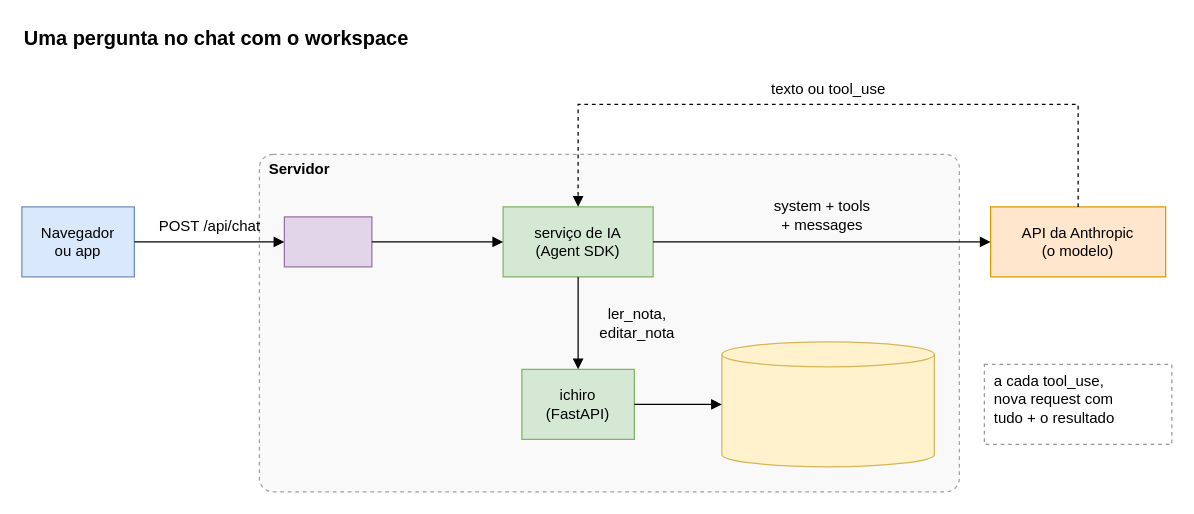
This 1194x514 diagram has some shape labels left out. Here are the shapes that lost their labels. From the top down, the centre of each, then its label:
At point (327, 241): "Caddy".
At point (827, 404): "Postgres notas, .workspace/, conversas".
